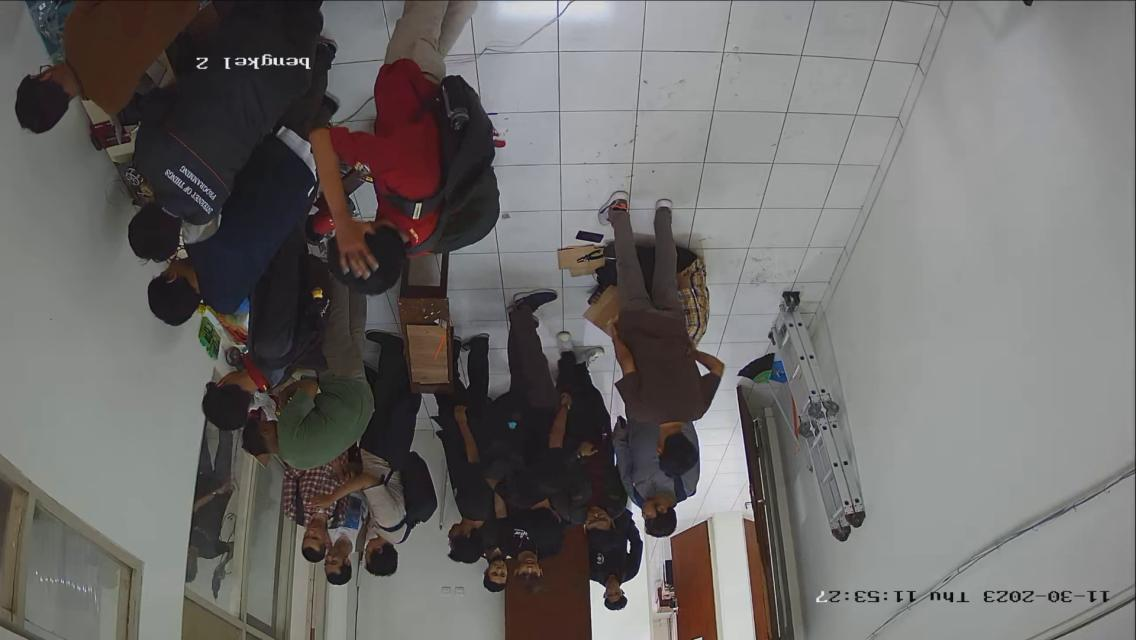Crowd: (242, 199, 734, 627), (7, 17, 431, 468)
